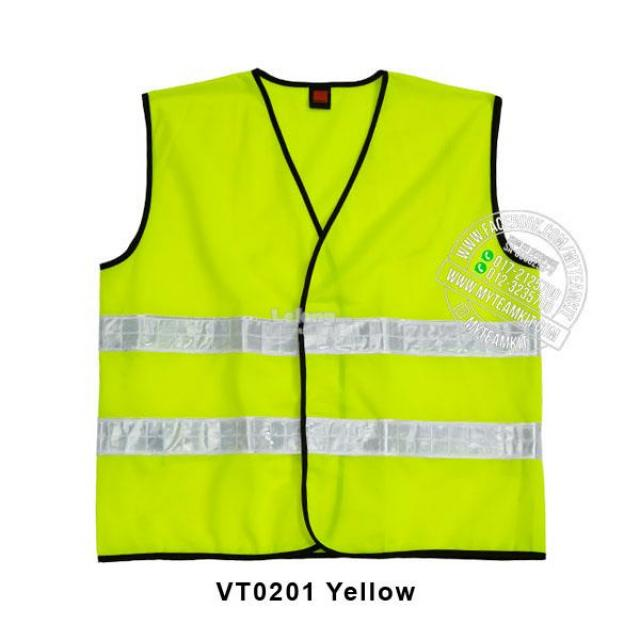Reflective-Jacket: (59, 61, 566, 563)
